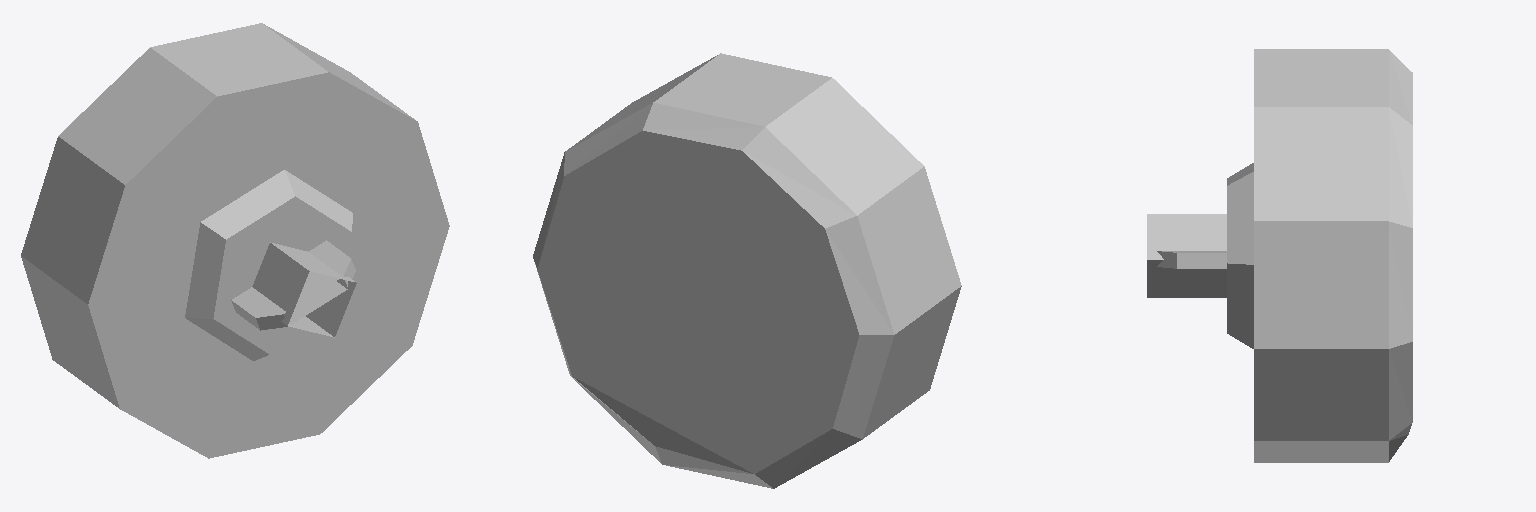
File: wheel41.obj
The picture shows the model from 3 angles: view 1: azimuth 30°, elevation 25°; view 2: azimuth 150°, elevation 25°; view 3: azimuth 270°, elevation 25°; orthographic projection.
Visible parts, largest first — view 1: wheel_low_textures; view 2: wheel_low_textures; view 3: wheel_low_textures.
Boxes of the visible parts, box(x1,y1,x2,y2) form: wheel_low_textures: box(21, 23, 449, 458); wheel_low_textures: box(533, 53, 961, 488); wheel_low_textures: box(1147, 49, 1412, 462).
Bounding box in the file's own units: 1.56 × 1.5 × 0.9907.